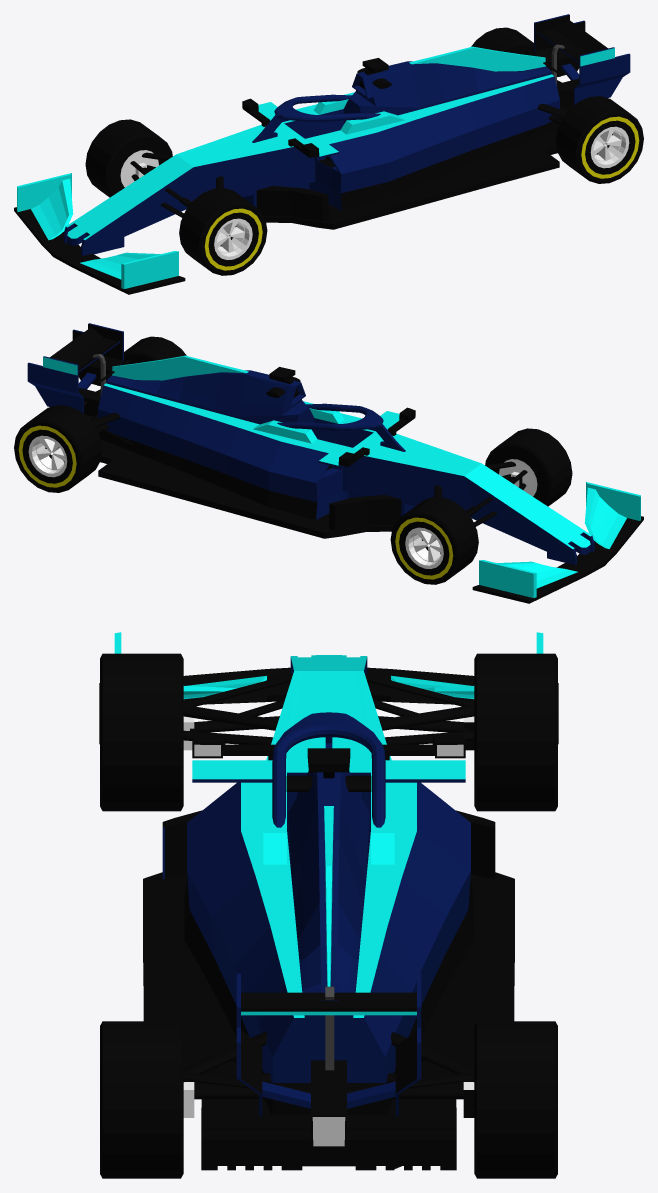
The picture shows the model from 3 angles, top to bottom: view 1: azimuth 30°, elevation 25°; view 2: azimuth 150°, elevation 25°; view 3: azimuth 270°, elevation 25°; orthographic projection. The views are drawn at different scales.
Visible parts, largest first — view 1: Cube.002, Cube.005, Cube.007; view 2: Cube.002, Cube.005, Cube.007; view 3: Cube.002, Cube.005, Cube.007.
Part boxes in pixels (x1=…): Cube.002: x1=14, y1=14, x2=630, y2=294; Cube.005: x1=85, y1=119, x2=267, y2=275; Cube.007: x1=471, y1=27, x2=643, y2=183; Cube.002: x1=27, y1=323, x2=643, y2=603; Cube.005: x1=390, y1=428, x2=572, y2=584; Cube.007: x1=14, y1=336, x2=186, y2=492; Cube.002: x1=99, y1=632, x2=558, y2=1170; Cube.005: x1=100, y1=653, x2=557, y2=811; Cube.007: x1=100, y1=1021, x2=557, y2=1178.
Size of the model in its own units: 1396 by 293 by 501.
